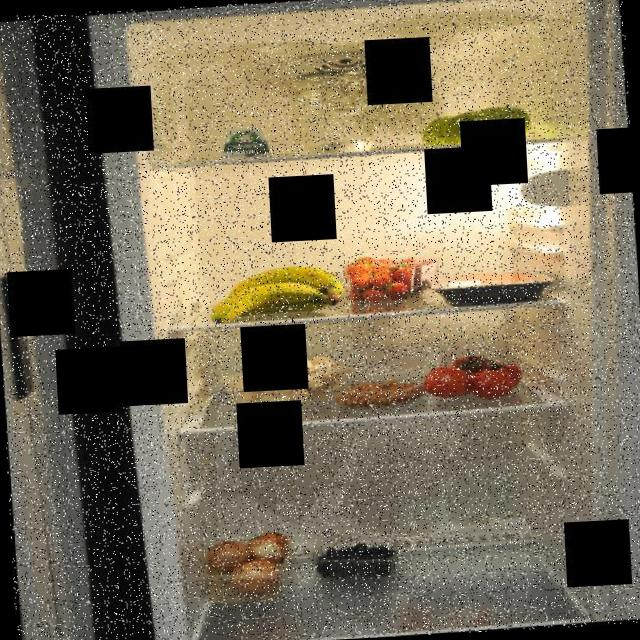Cebolla: (205, 528, 289, 599)
Champiñones: (222, 344, 364, 414)
Gambas/Langostinos: (334, 376, 419, 412)
Manzana: (414, 96, 534, 150)
Plátano: (204, 261, 348, 326)
Queso: (213, 124, 284, 163)
Tomate: (416, 344, 528, 406)
blueberries: (312, 535, 404, 580)
flour: (283, 64, 384, 154)
strawberries: (346, 252, 445, 302)
